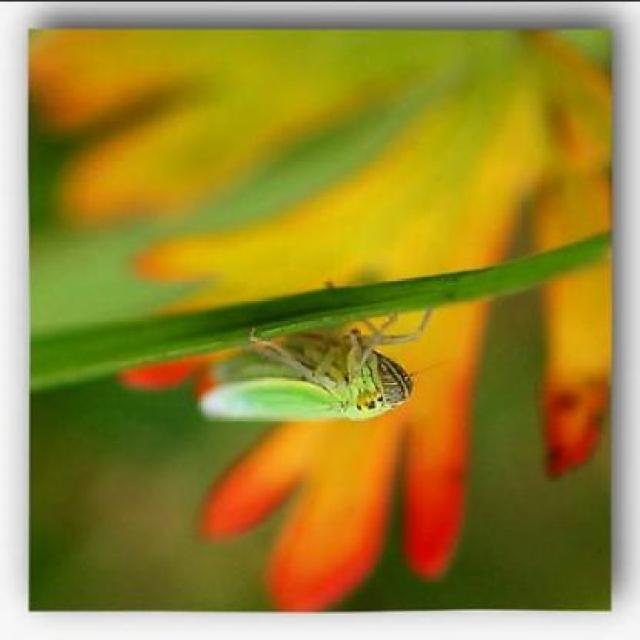green-leafhopper: (197, 329, 415, 426)
